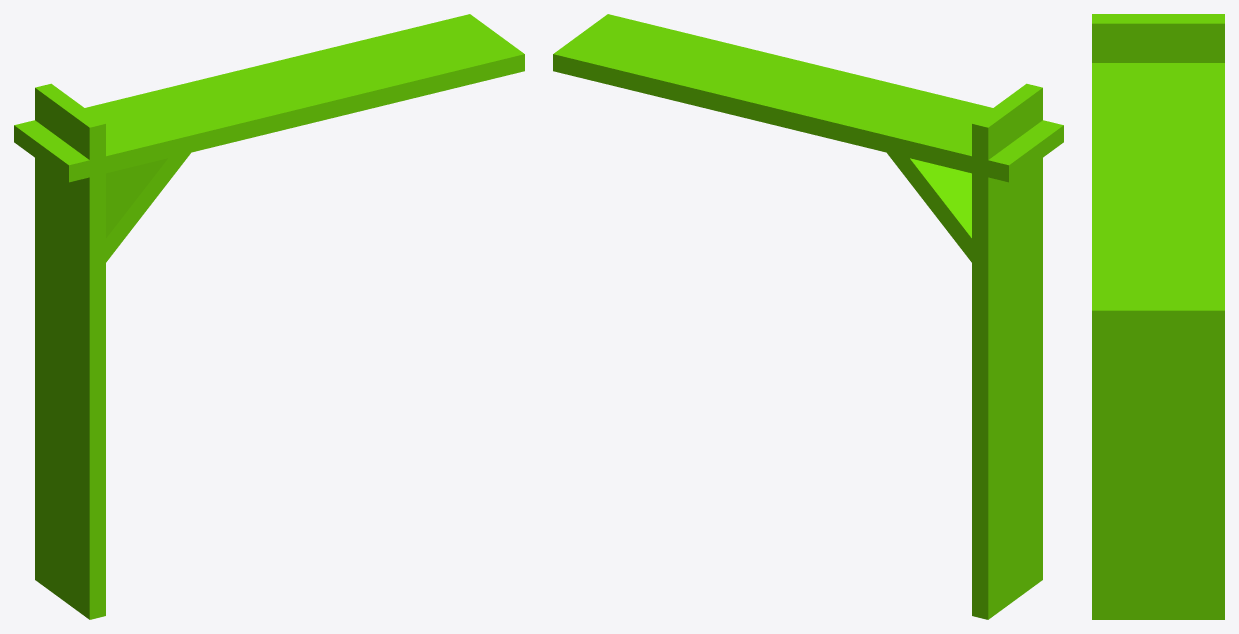
Rendered from AGVE_Hang 1.fbx.
3 views of the same model, side by side, from view 1: azimuth 30°, elevation 25°; view 2: azimuth 150°, elevation 25°; view 3: azimuth 270°, elevation 25° (orthographic). The views are drawn at different scales.
Parts seen in each view (by area): view 1: Hang; view 2: Hang; view 3: Hang.
Part boxes in pixels (x1,y1,x2,y2): Hang: [14, 14, 524, 619]; Hang: [553, 14, 1063, 619]; Hang: [1092, 14, 1224, 619].
Size of the model in its own units: 61.98 by 63.94 by 12.9.
